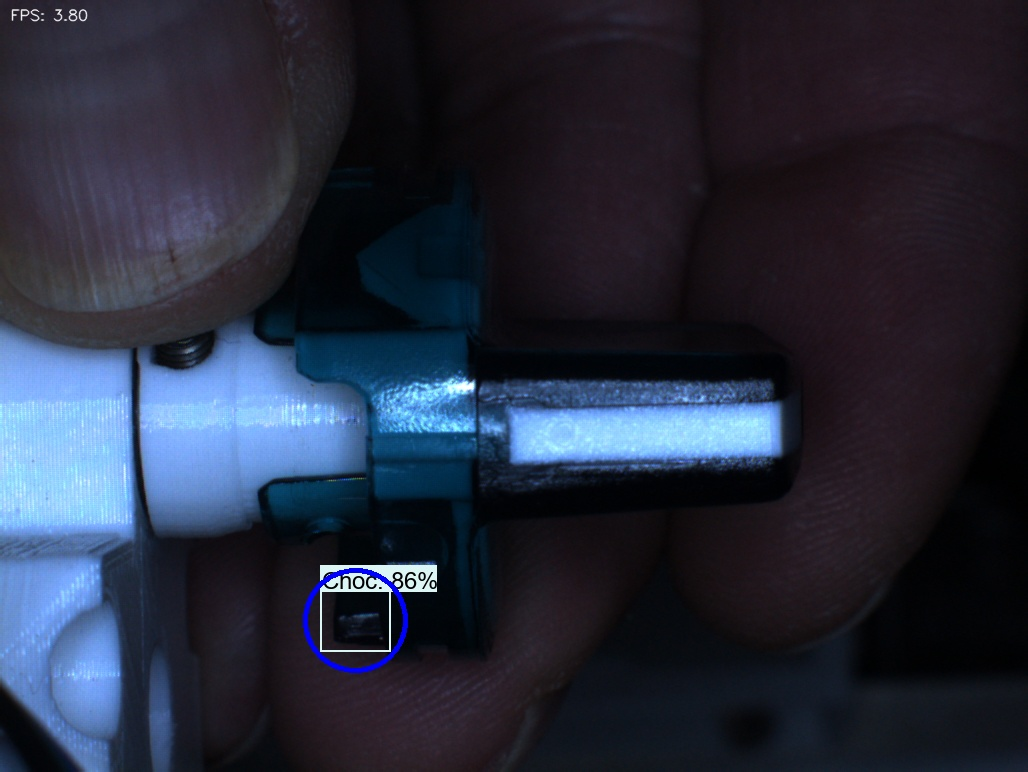DentOk: (323, 212, 408, 324)
